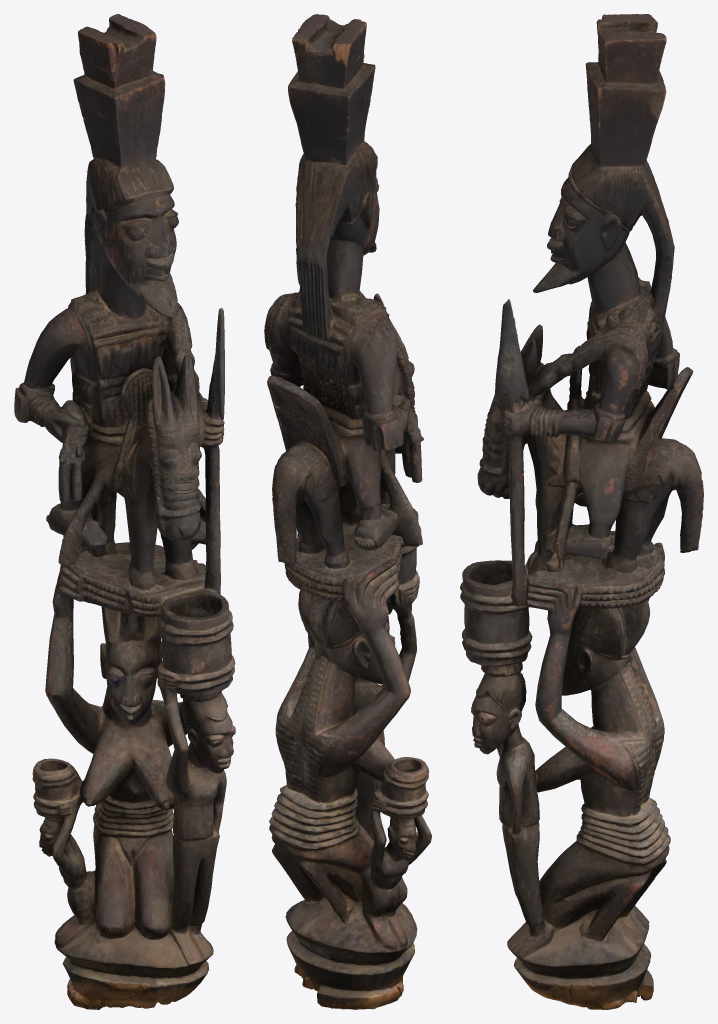
File: preview.glb
The picture shows the model from 3 angles, left to right: view 1: azimuth 30°, elevation 25°; view 2: azimuth 150°, elevation 25°; view 3: azimuth 270°, elevation 25°; orthographic projection.
Visible parts, largest first — view 1: VerandaPost_Edit_n3d; view 2: VerandaPost_Edit_n3d; view 3: VerandaPost_Edit_n3d.
Part boxes in pixels (<box>): VerandaPost_Edit_n3d: <box>14,14,235,1009</box>; VerandaPost_Edit_n3d: <box>264,14,431,1009</box>; VerandaPost_Edit_n3d: <box>460,14,703,1009</box>.
Size of the model in its own units: 0.3049 by 1.81 by 0.4109.
1 material, 1 textured.
